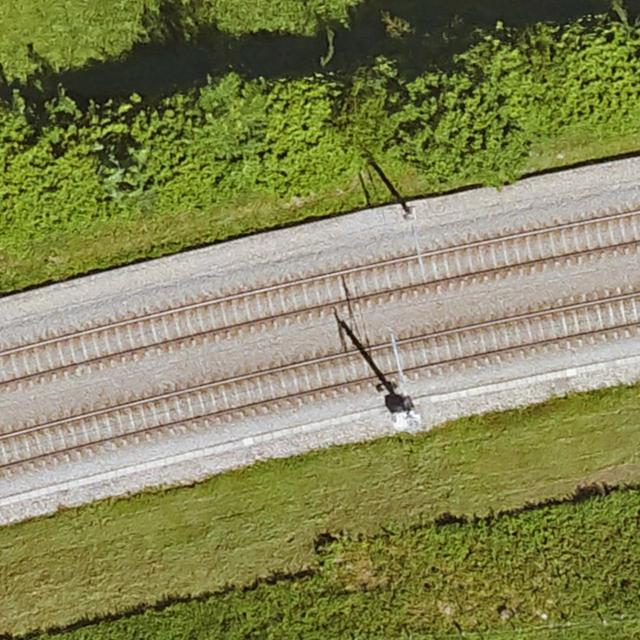tree: (350, 28, 529, 180), (159, 74, 320, 200), (1, 96, 108, 238), (541, 10, 640, 131), (149, 0, 344, 36), (389, 407, 421, 430)
